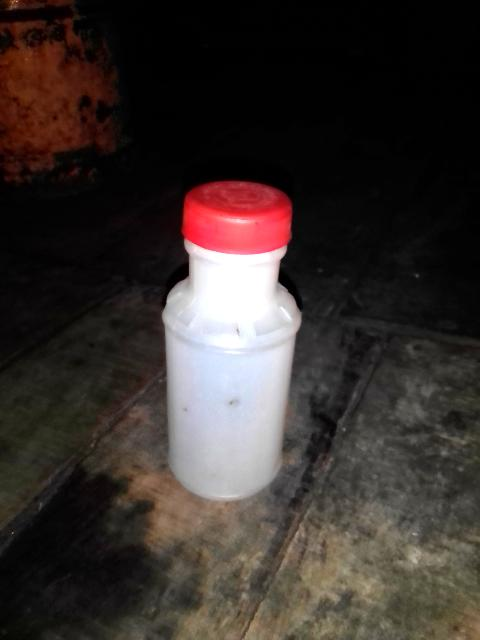hardplastic: (120, 161, 341, 519)
